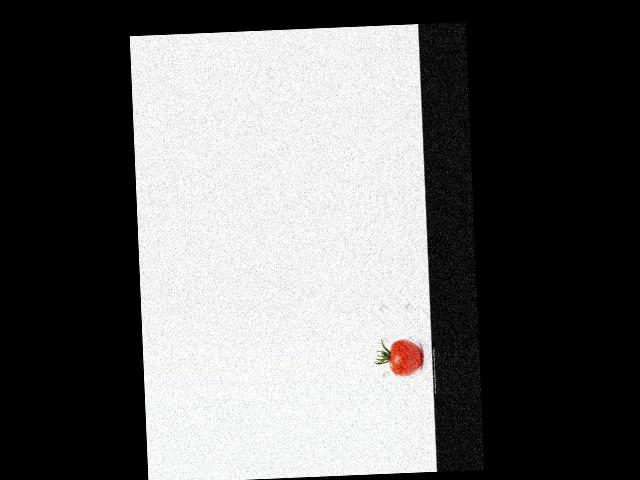tomato: (389, 338, 422, 376)
